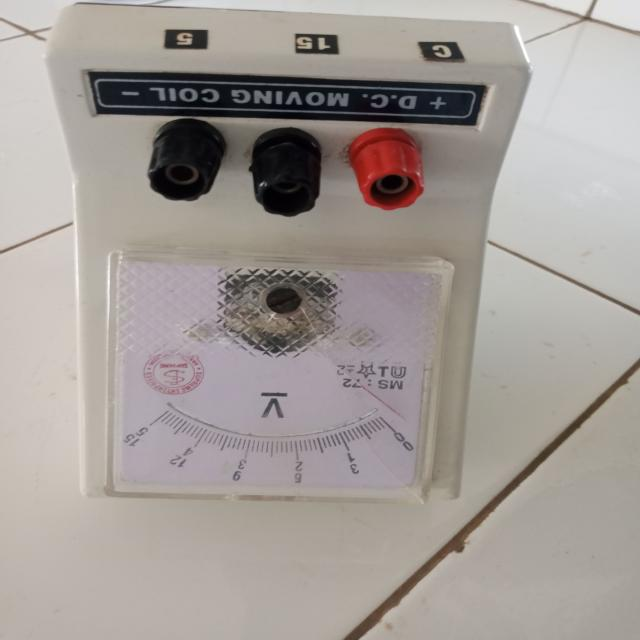Analog Voltmeter: (42, 0, 526, 518)
